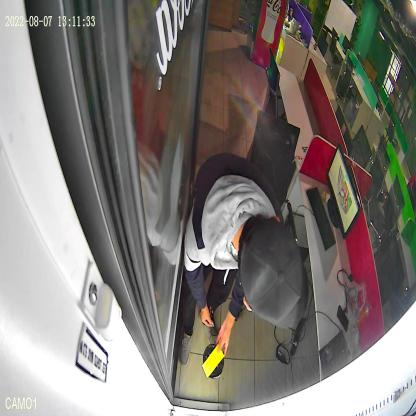yellow: (202, 343, 224, 380)
